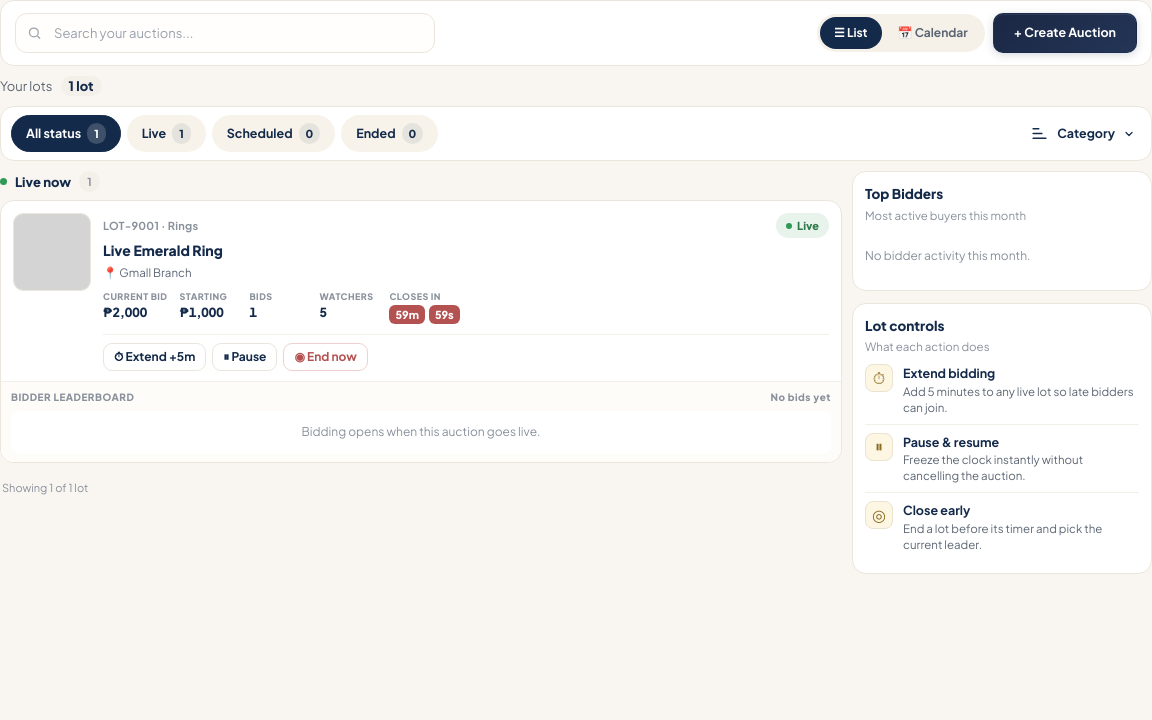
Test: End moves card Live→Ended immediately, closes modal, refreshes
Expected: the text "Live Emerald Ring" is shown, [103, 241, 223, 259]
Click the button with aria-label "End auction now" at [326, 357], box [283, 343, 368, 371]
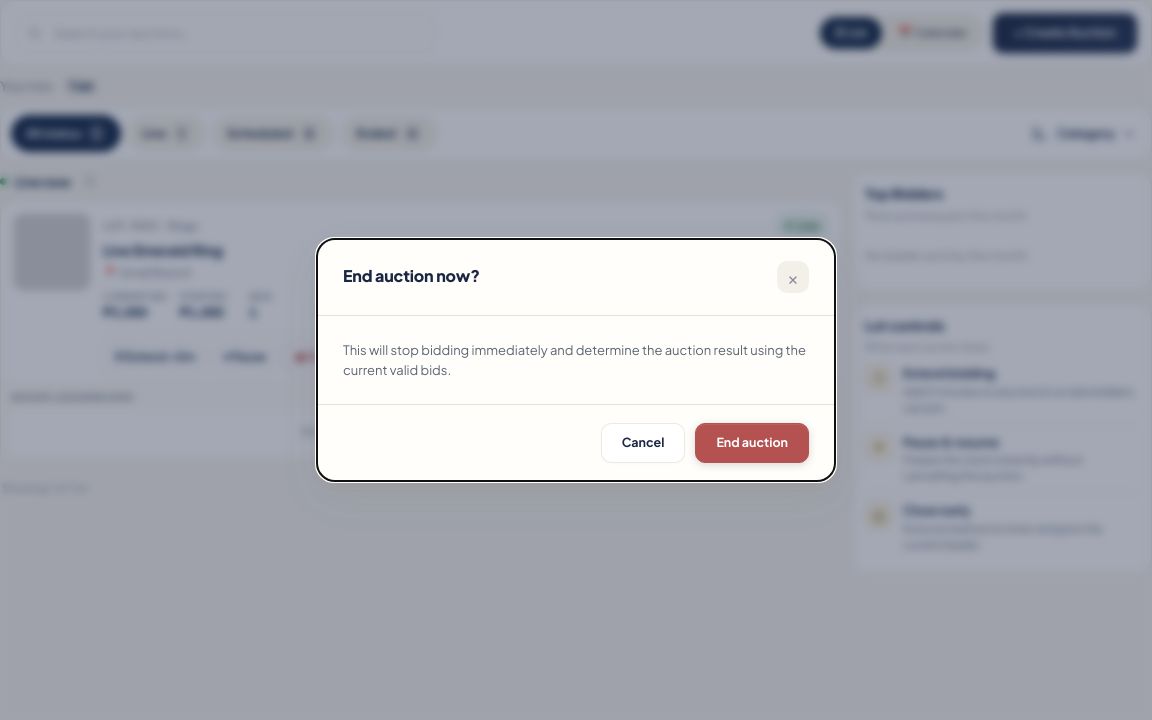
Expected: the heading "End auction now?" is shown, [343, 264, 480, 289]
Click the button "End auction" at [752, 443], box [695, 423, 809, 463]
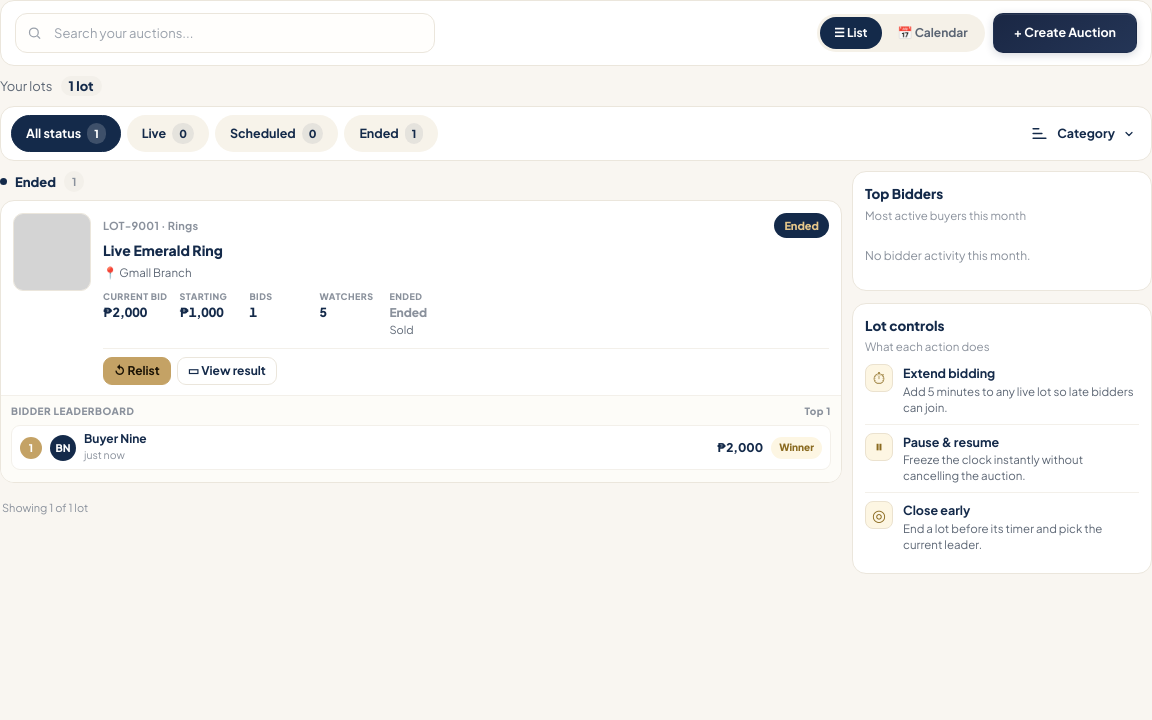
Expected: the heading "End auction now?" is gone
Expected: the button "▭ View result" is shown, [177, 357, 277, 385]
Expected: the button "↺ Relist" is shown, [103, 357, 171, 385]
